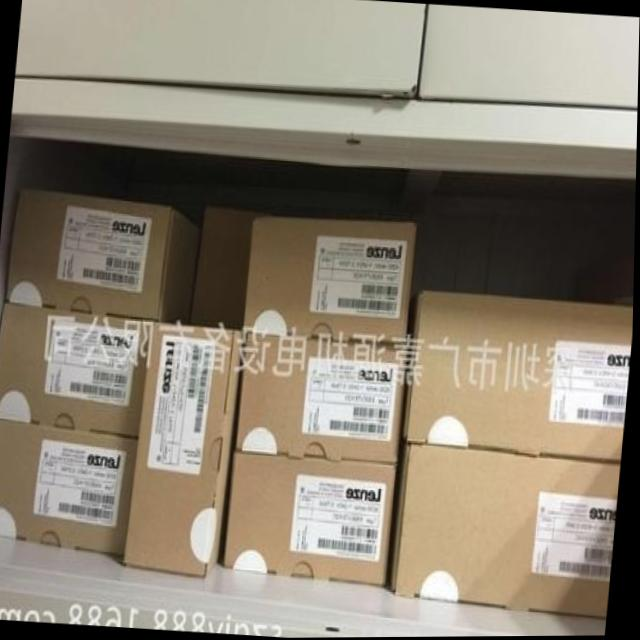box: (388, 435, 622, 618), (401, 292, 635, 462), (126, 323, 247, 577), (6, 189, 202, 323), (227, 451, 398, 585), (237, 333, 409, 462), (244, 217, 418, 344), (0, 302, 152, 436), (0, 418, 139, 555), (190, 208, 260, 329)
